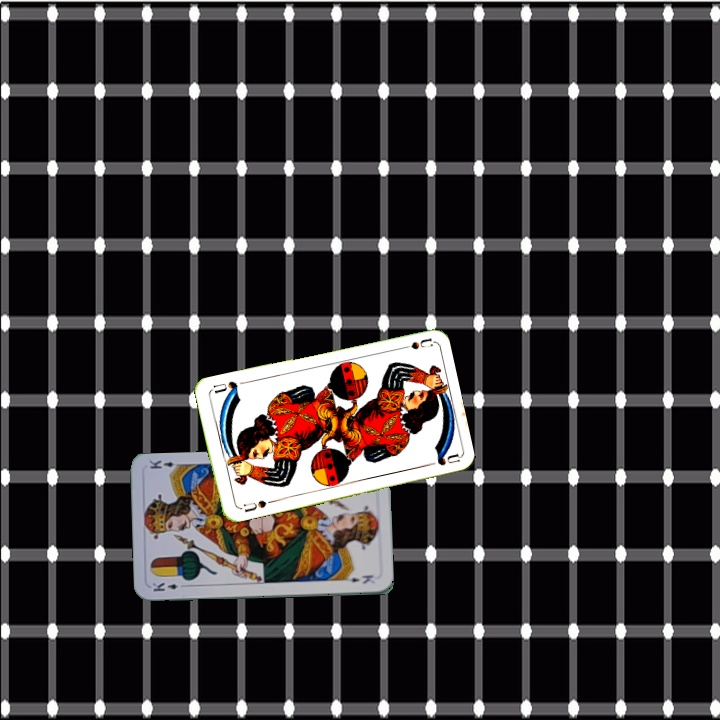EK: (148, 579, 189, 594)
SU: (393, 335, 434, 353), (240, 496, 269, 515)
